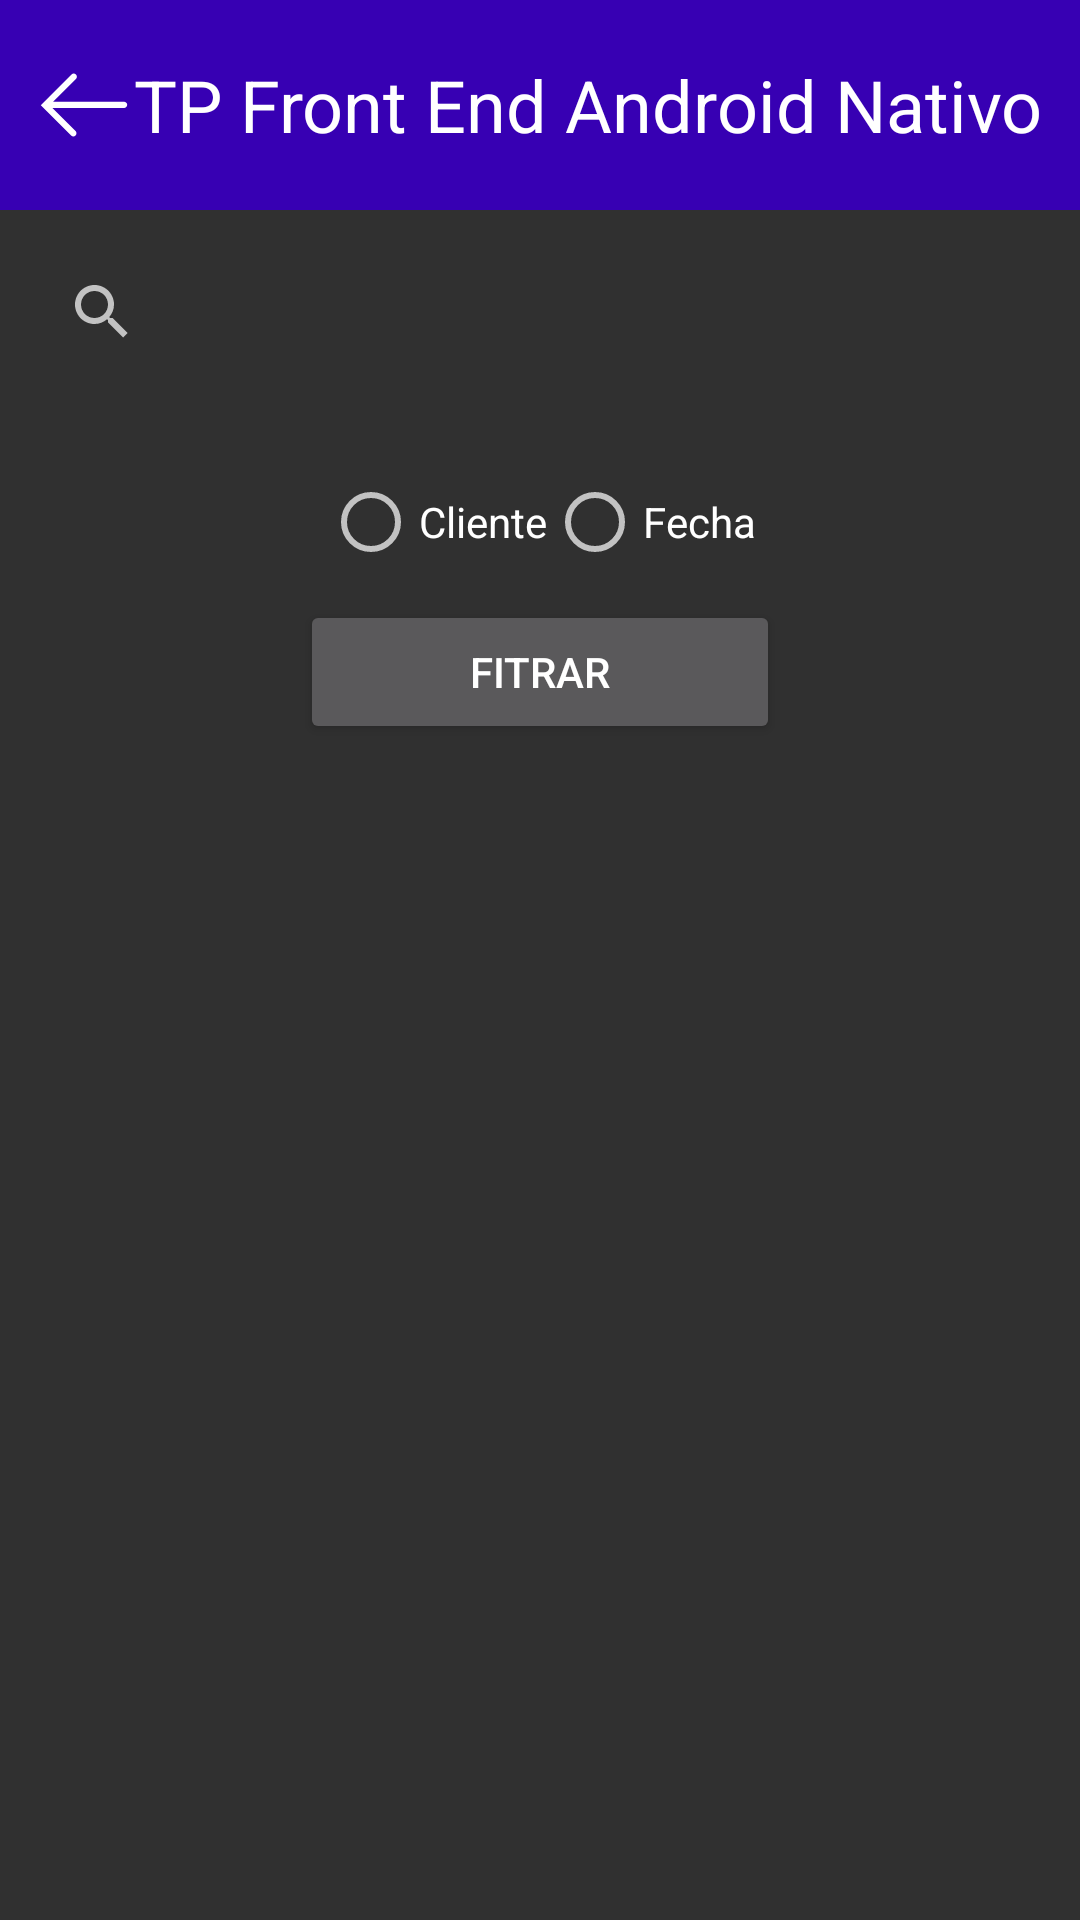

Icons on this 1080*1920 Android screen, each with the point to tap as [x,y]:
arrow: [84,105]
